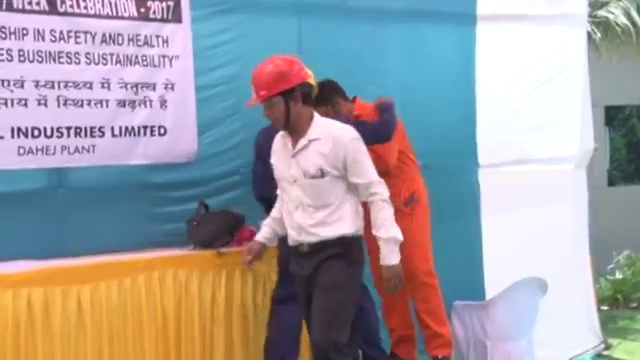helmet: (243, 52, 310, 106)
helmet_off: (311, 75, 353, 121)
helmet_on: (241, 50, 317, 143)
person: (234, 47, 404, 360), (314, 74, 457, 360)
